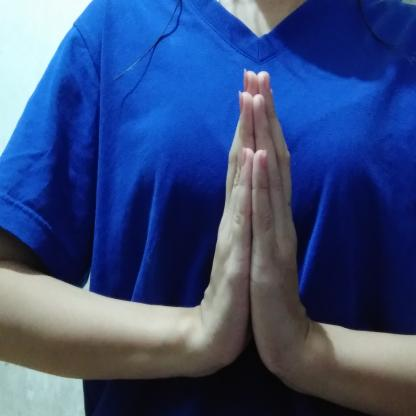sorry: (189, 64, 322, 402)
